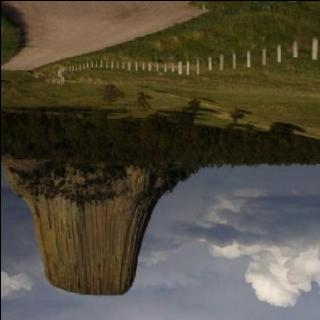Cumulus: (0, 165, 320, 320)
